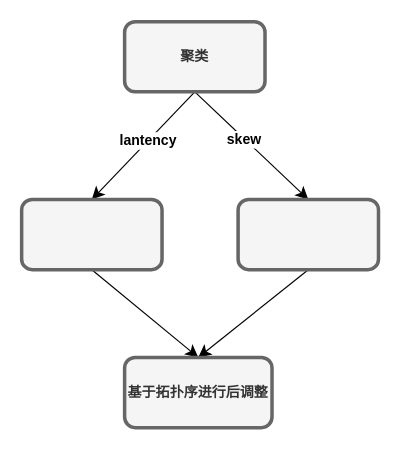
Some shapes in this 400 by 449 pixel diagram are drawn without their labels. The shapes that lost their labels are listed below. From the top down, each one's box as (x1, y1, x2, y2) in pixels, then its label:
(19, 197, 163, 271): 基于负载建立拓扑树
(236, 197, 380, 271): 基于极差建立拓扑树
